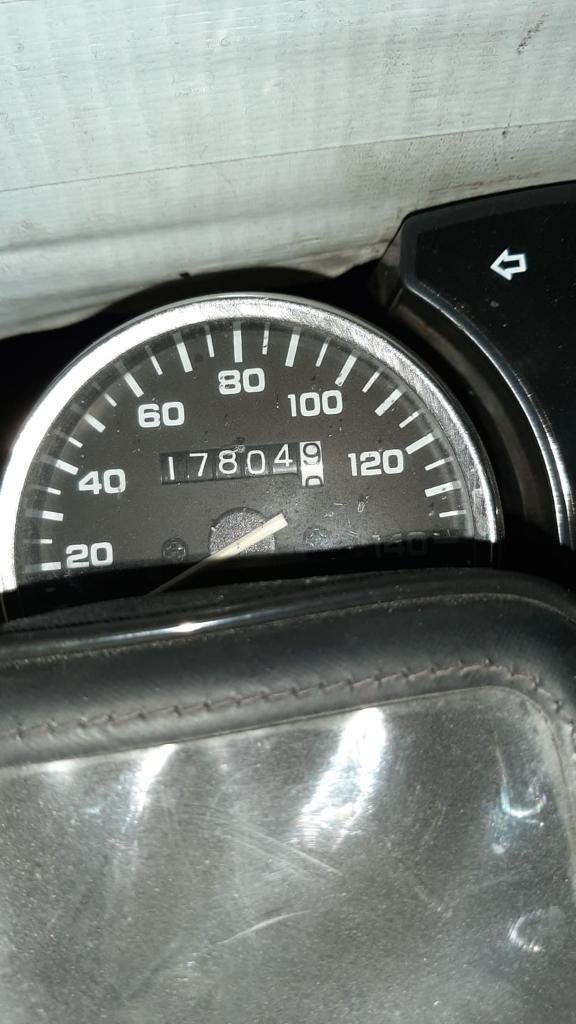0: (244, 448, 267, 476)
1: (163, 451, 180, 481)
4: (272, 440, 295, 469)
7: (186, 450, 209, 478)
8: (215, 448, 240, 476)
9: (300, 441, 323, 467)
odometer: (154, 436, 328, 491)
